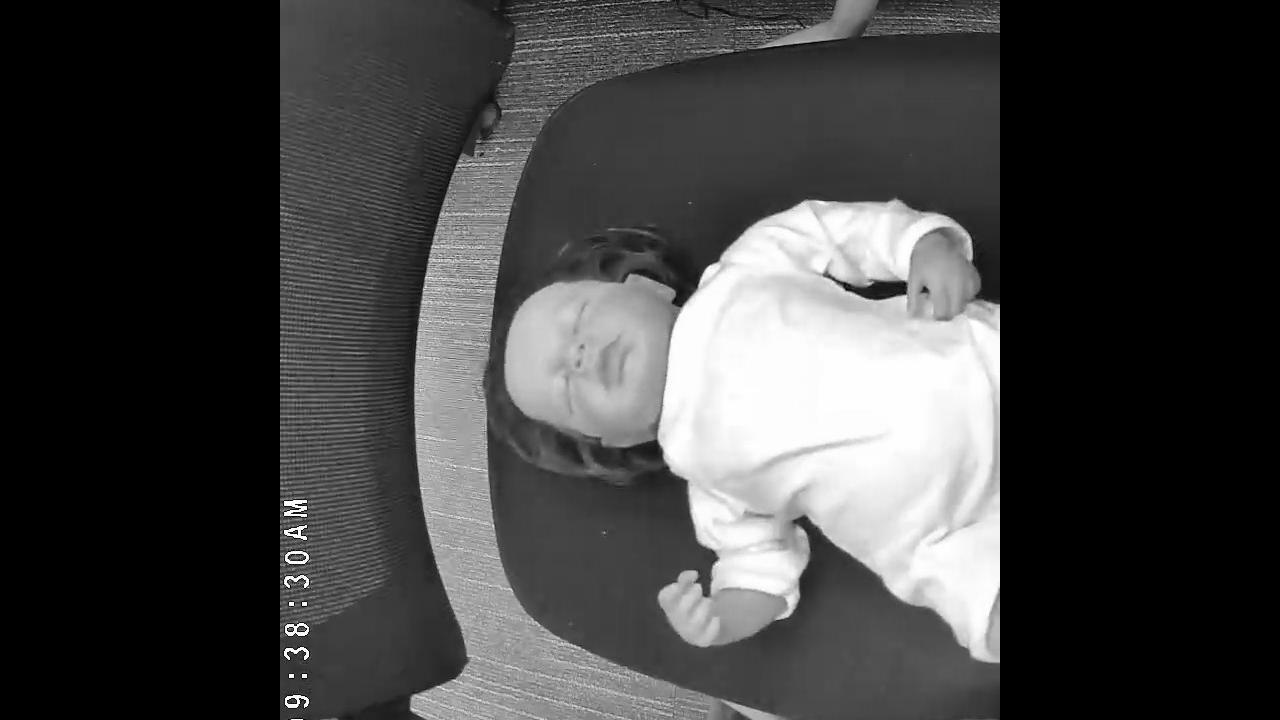hand: (906, 232, 980, 323), (656, 568, 740, 648)
